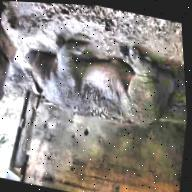boar: (14, 27, 178, 138)
